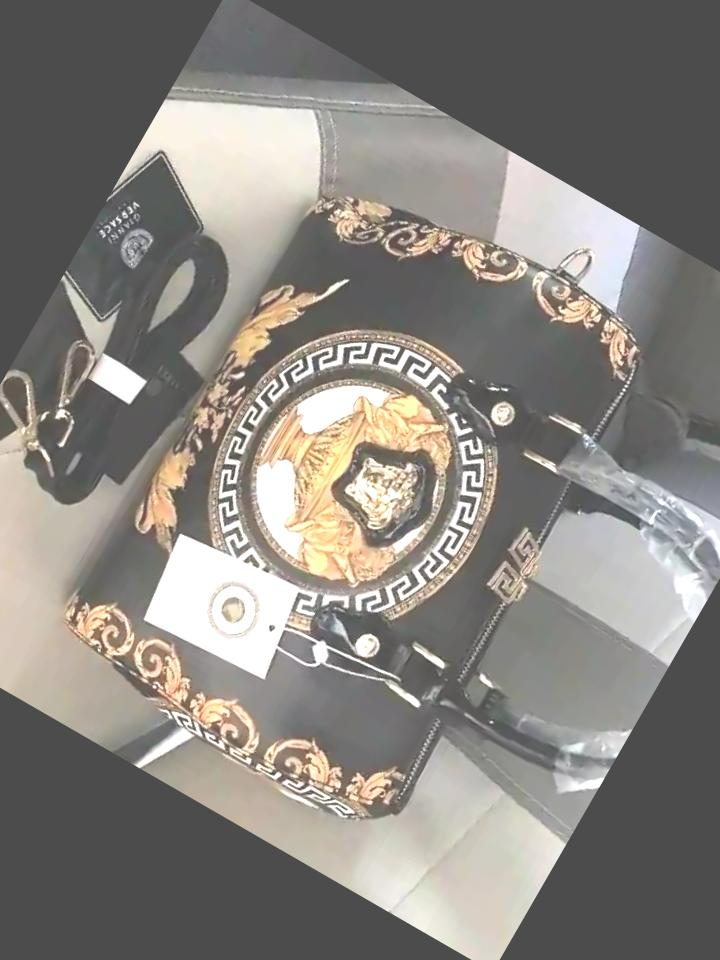VERSACE: (330, 434, 442, 548)
